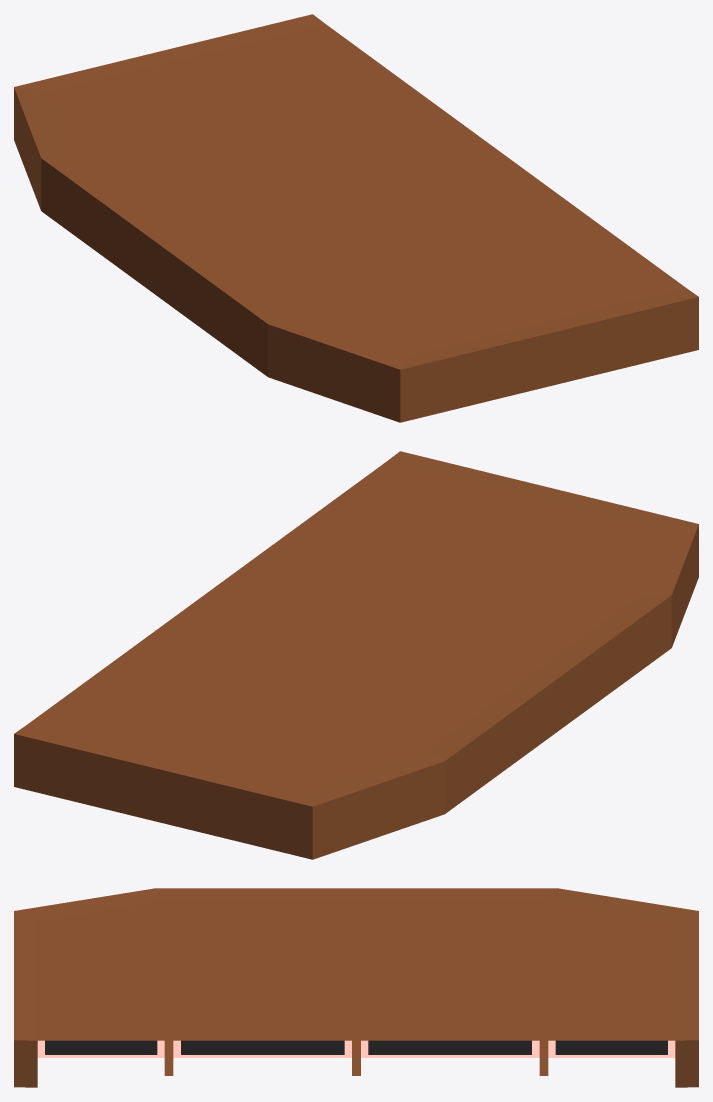
File: Bar piece_top.fbx
3 renders of one model, top to bottom at view 1: azimuth 30°, elevation 25°; view 2: azimuth 150°, elevation 25°; view 3: azimuth 270°, elevation 25°, orthographic. The views are drawn at different scales.
Visible parts, largest first — view 1: Plane.001; view 2: Plane.001; view 3: Plane.001.
Boxes of the visible parts, bbox=[...] form: Plane.001: bbox=[14, 14, 698, 422]; Plane.001: bbox=[14, 451, 698, 859]; Plane.001: bbox=[14, 888, 698, 1087].
Bounding box in the file's own units: 246 × 35.75 × 468.
